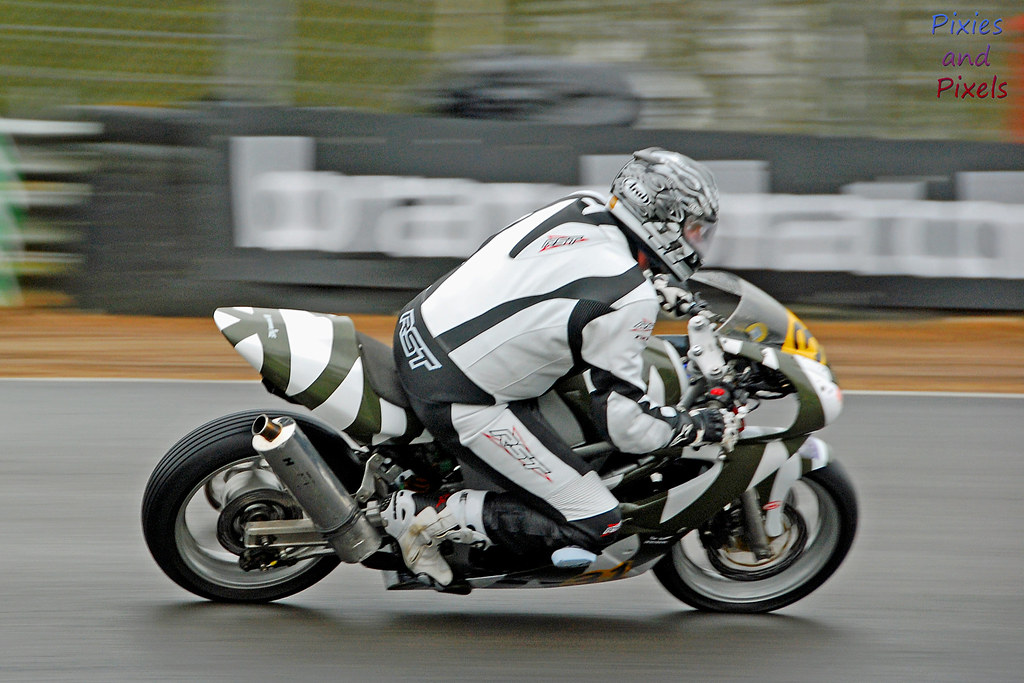helmet: (603, 141, 731, 274)
